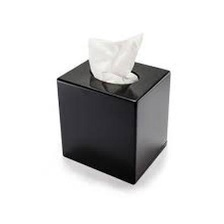plastic_box: (50, 52, 177, 189)
tissue: (82, 26, 153, 87)
